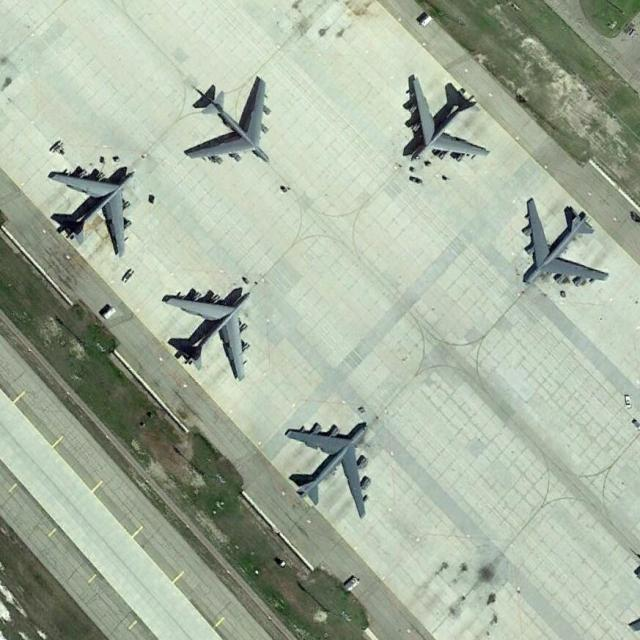fighter jet: (513, 188, 618, 292), (279, 402, 371, 520), (156, 279, 258, 383), (45, 147, 135, 261), (396, 63, 481, 166), (190, 72, 274, 167)
